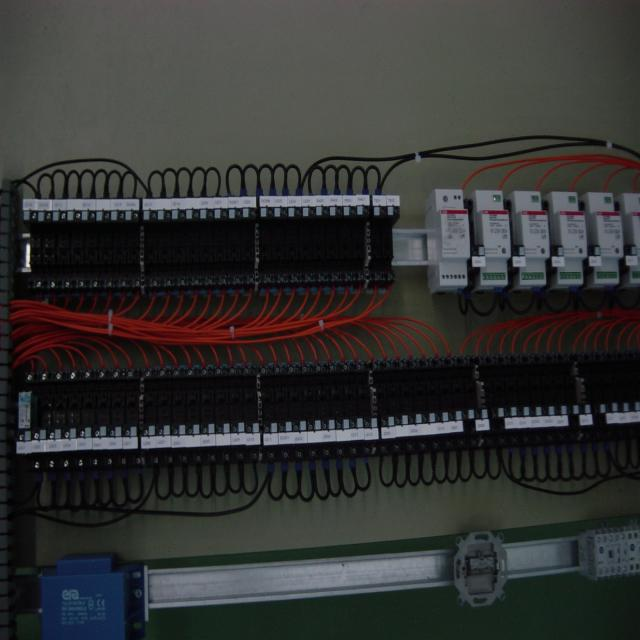Dimmer: (424, 194, 470, 290), (474, 193, 510, 290), (514, 191, 548, 287), (552, 190, 586, 286), (587, 189, 619, 289), (622, 189, 640, 290)
